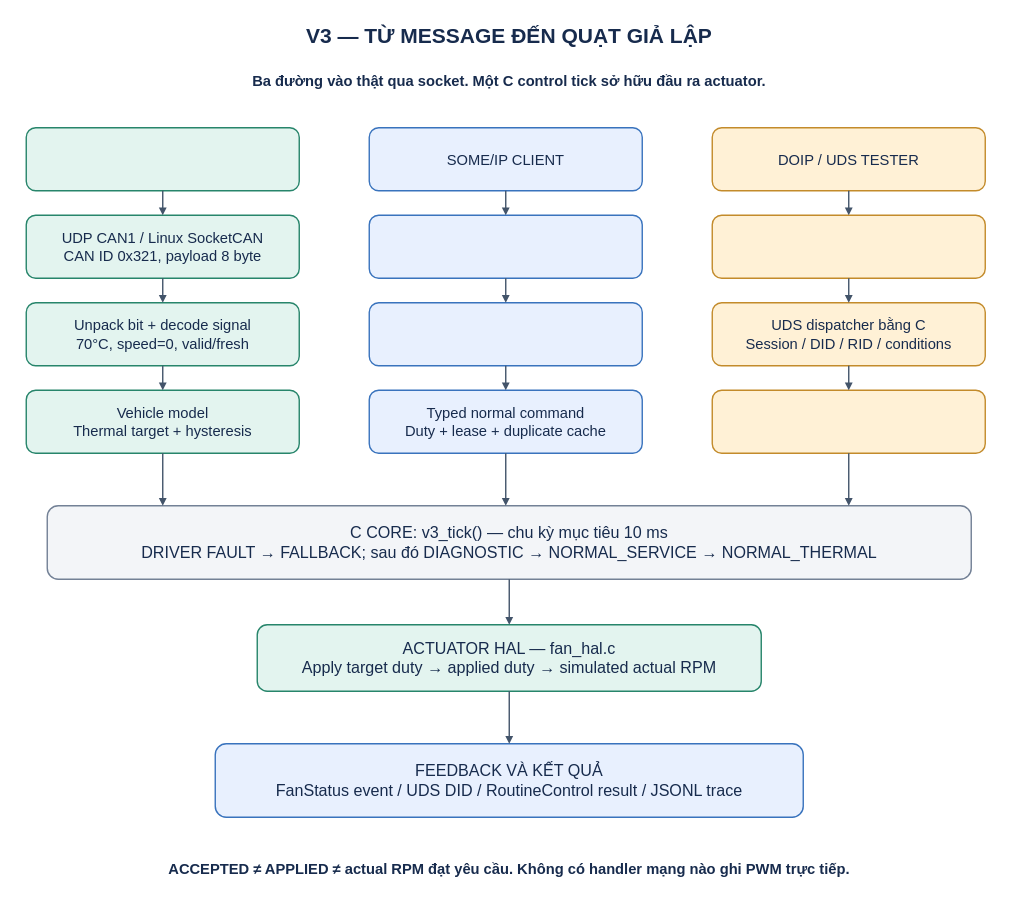
Some shapes in this 1018 by 899 pixel diagram are drawn without their labels. Each missing label, with the centre of its shape:
"Diagnostic routine manager Start / stop / result / deadline" goes at point 848,421.
"SIGNAL PRODUCER" goes at point 162,159.
"TCP 13400 + UDP discovery Routing activation + SA / TA" goes at point 848,246.
"TCP method / UDP SD-event FanControl + VehicleTelemetry" goes at point 505,246.
"Validate header + decode method SetNormalDuty / GetSnapshot" goes at point 505,334.
